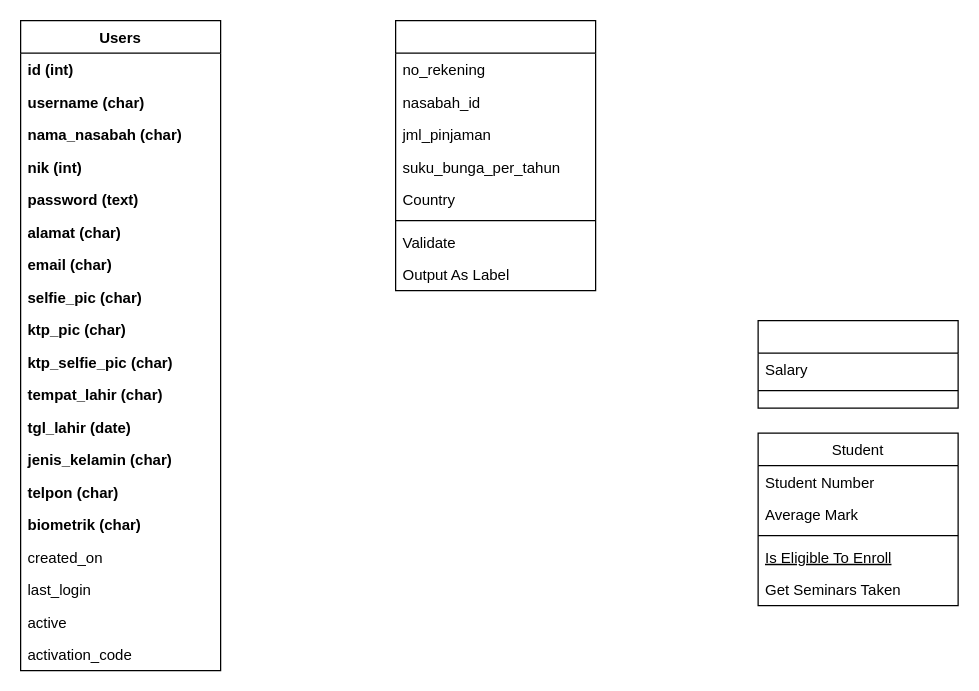
The diagram is 979 pixels wide and 691 high, and some of its shapes have lost their labels. Each missing label, with the box of its shape:
Kredit: (394, 19, 596, 291)
Professor: (757, 319, 958, 408)
